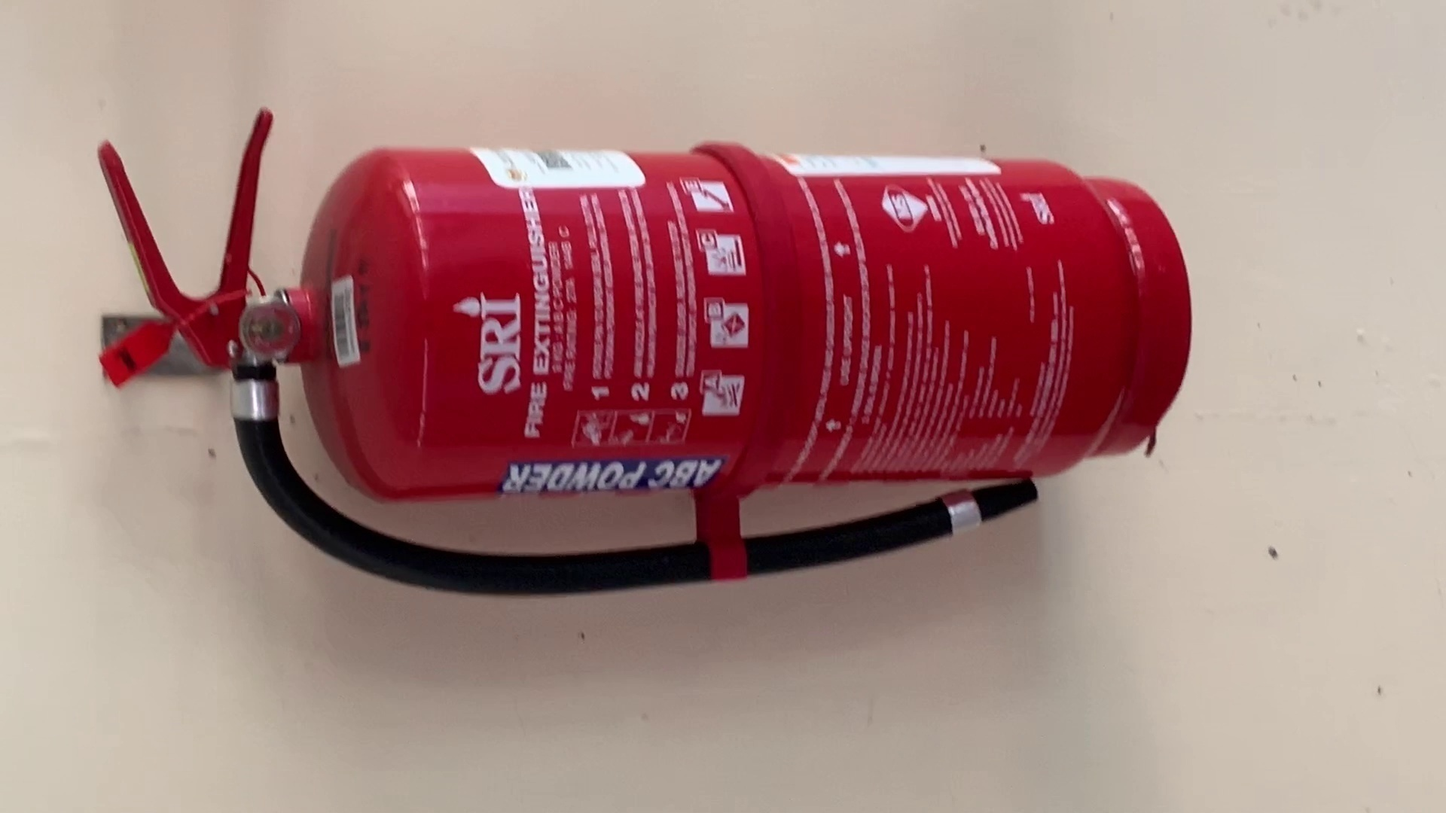fire_extinguisher: (97, 108, 1194, 595)
